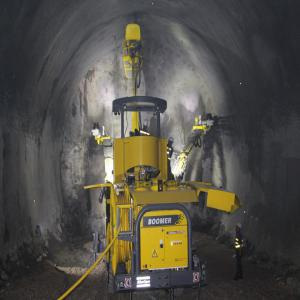white: (236, 223, 243, 233), (144, 119, 149, 130), (169, 137, 175, 146)
